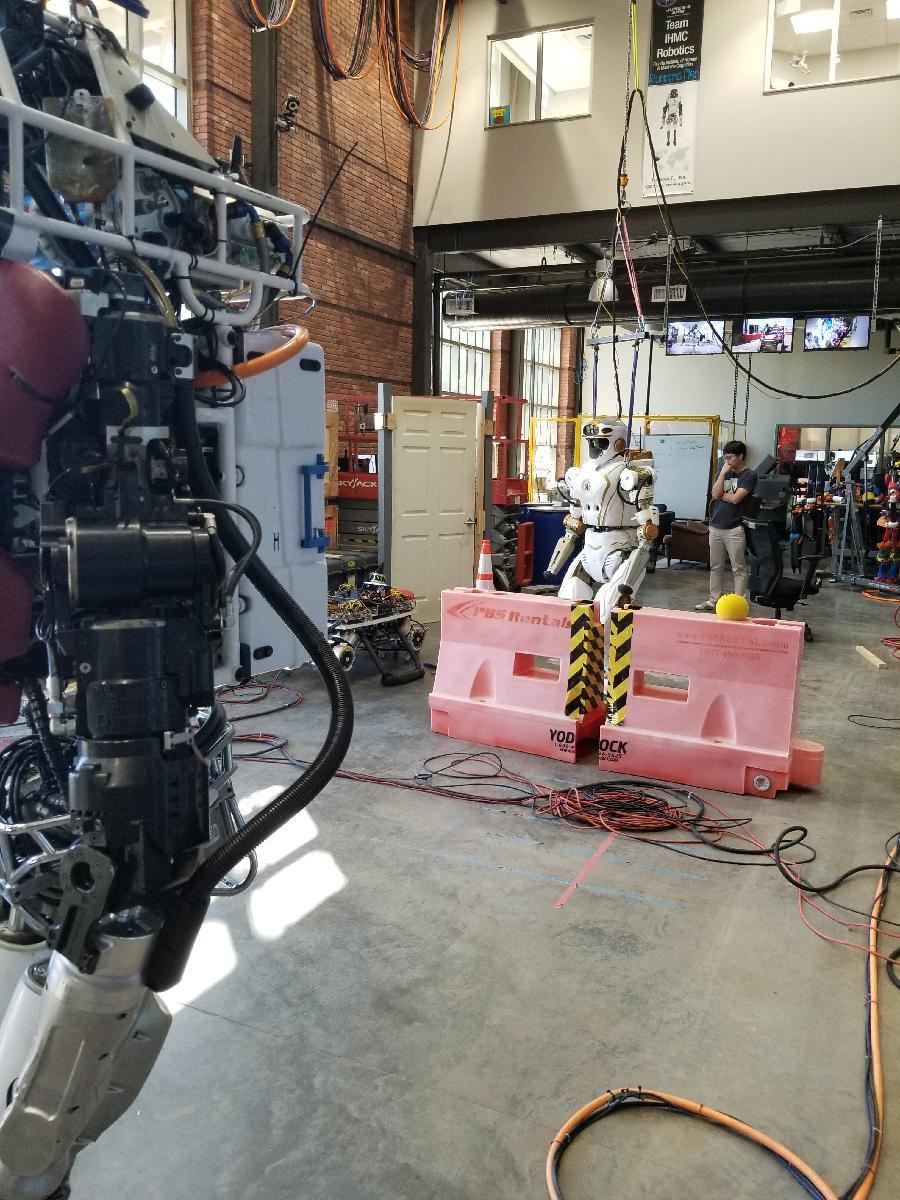door: (389, 388, 484, 643)
handle: (462, 516, 477, 529)
